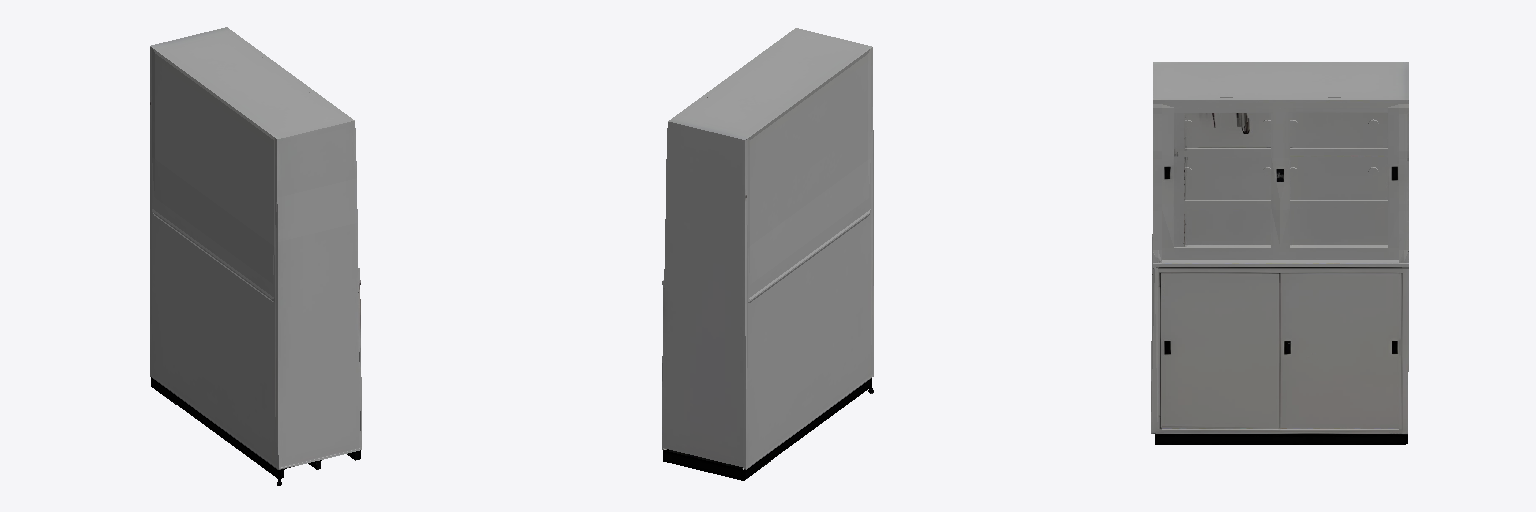
The picture shows the model from 3 angles: view 1: azimuth 30°, elevation 25°; view 2: azimuth 150°, elevation 25°; view 3: azimuth 270°, elevation 25°; orthographic projection.
Parts seen in each view (by area): view 1: tripo_node_dfeb2a54-4811-4da5-9374-a5155c25302b; view 2: tripo_node_dfeb2a54-4811-4da5-9374-a5155c25302b; view 3: tripo_node_dfeb2a54-4811-4da5-9374-a5155c25302b.
Part boxes in pixels (x1,y1,x2,y2): tripo_node_dfeb2a54-4811-4da5-9374-a5155c25302b: (150,27,361,485); tripo_node_dfeb2a54-4811-4da5-9374-a5155c25302b: (662,28,873,480); tripo_node_dfeb2a54-4811-4da5-9374-a5155c25302b: (1151,62,1408,444).
Bounding box in the file's own units: 0.2433 × 0.9495 × 0.6385.
1 materials, 1 textured.